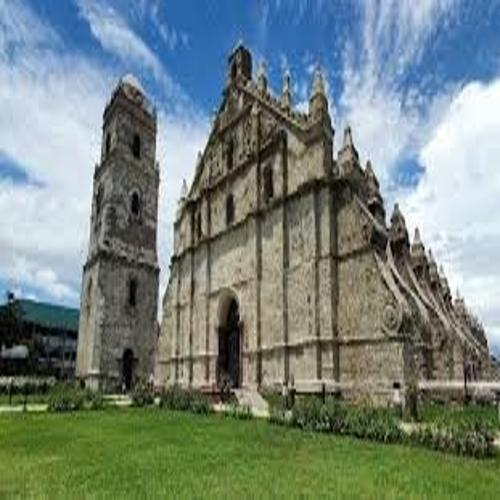Paoay Church: (74, 45, 464, 413)
